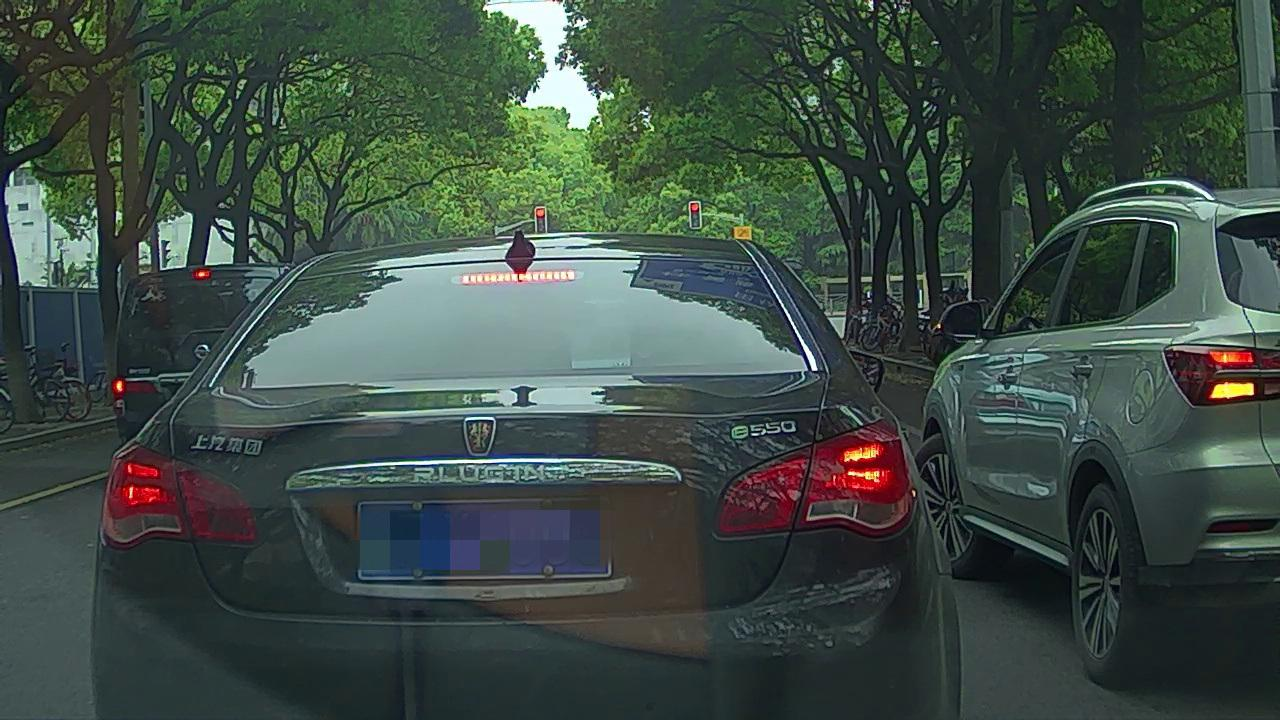traffic_light: (690, 203, 701, 228), (536, 208, 545, 234)
